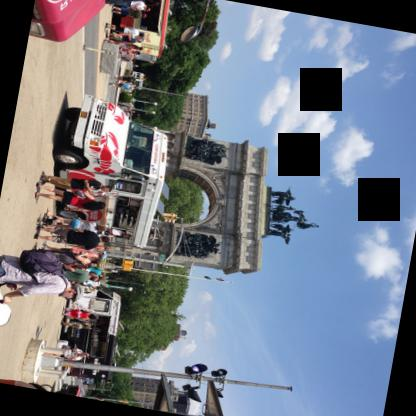backpack: (18, 248, 67, 289), (71, 262, 90, 269)
handbag: (71, 189, 84, 199), (62, 262, 90, 266), (61, 344, 72, 348), (117, 82, 122, 87)
